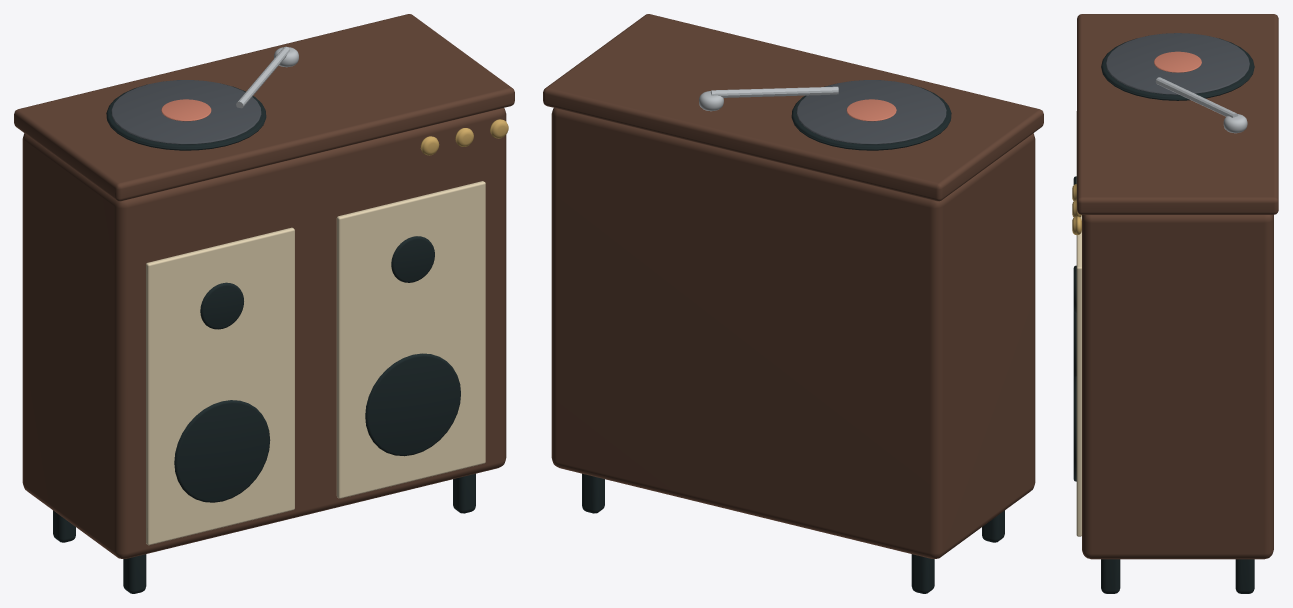
The model's file is stereo.glb.
The picture shows the model from 3 angles, left to right: view 1: azimuth 30°, elevation 25°; view 2: azimuth 150°, elevation 25°; view 3: azimuth 270°, elevation 25°; orthographic projection. The views are drawn at different scales.
Visible parts, largest first — view 1: Stereo cabinet, Record deck, Speaker grille.001, Speaker grille, Woofer, Woofer.001, Vinyl record, Tweeter, Tweeter.001, Turntable platter, Record label, Tapered leg.009 (+2 smaller); view 2: Stereo cabinet, Record deck, Vinyl record, Turntable platter, Tone arm, Record label, Tapered leg.008, Tapered leg.010; view 3: Stereo cabinet, Record deck, Vinyl record, Speaker grille.001, Turntable platter, Record label, Tone arm, Tapered leg.010, Tapered leg.011, Woofer.001, Arm pivot.
Part boxes in pixels (box(x1,y1,x2,y2)): Stereo cabinet: box(22, 108, 506, 558); Record deck: box(14, 14, 514, 201); Speaker grille.001: box(336, 181, 485, 498); Speaker grille: box(146, 227, 294, 545); Woofer: box(174, 400, 270, 502); Woofer.001: box(365, 353, 460, 456); Vinyl record: box(111, 80, 261, 144); Tweeter: box(200, 282, 243, 329); Tweeter.001: box(391, 236, 434, 282); Turntable platter: box(106, 84, 266, 150); Record label: box(161, 99, 211, 121); Tapered leg.009: box(123, 554, 146, 593); Stereo cabinet: box(551, 108, 1035, 558); Record deck: box(543, 14, 1043, 201); Vinyl record: box(796, 80, 946, 144); Turntable platter: box(791, 84, 951, 150); Tone arm: box(710, 86, 838, 97); Record label: box(846, 99, 896, 121); Tapered leg.008: box(911, 554, 934, 593); Tapered leg.010: box(582, 473, 604, 513); Stereo cabinet: box(1082, 215, 1273, 559); Record deck: box(1077, 14, 1278, 214); Vinyl record: box(1106, 33, 1249, 94); Speaker grille.001: box(1076, 215, 1081, 536); Turntable platter: box(1101, 38, 1254, 100); Record label: box(1154, 51, 1201, 72); Tone arm: box(1155, 77, 1238, 117); Tapered leg.010: box(1235, 559, 1254, 593); Tapered leg.011: box(1101, 559, 1120, 593); Woofer.001: box(1073, 376, 1076, 481); Arm pivot: box(1223, 114, 1247, 133).
Size of the model in its own units: 0.92 by 0.978 by 0.43.
